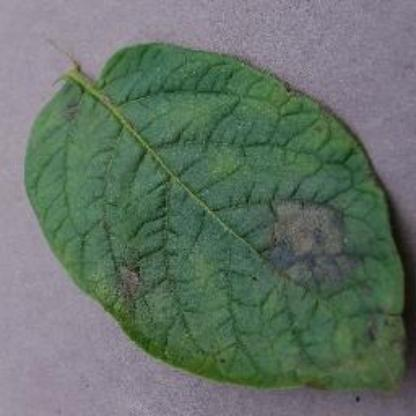Late-Blight: (24, 42, 414, 392)
